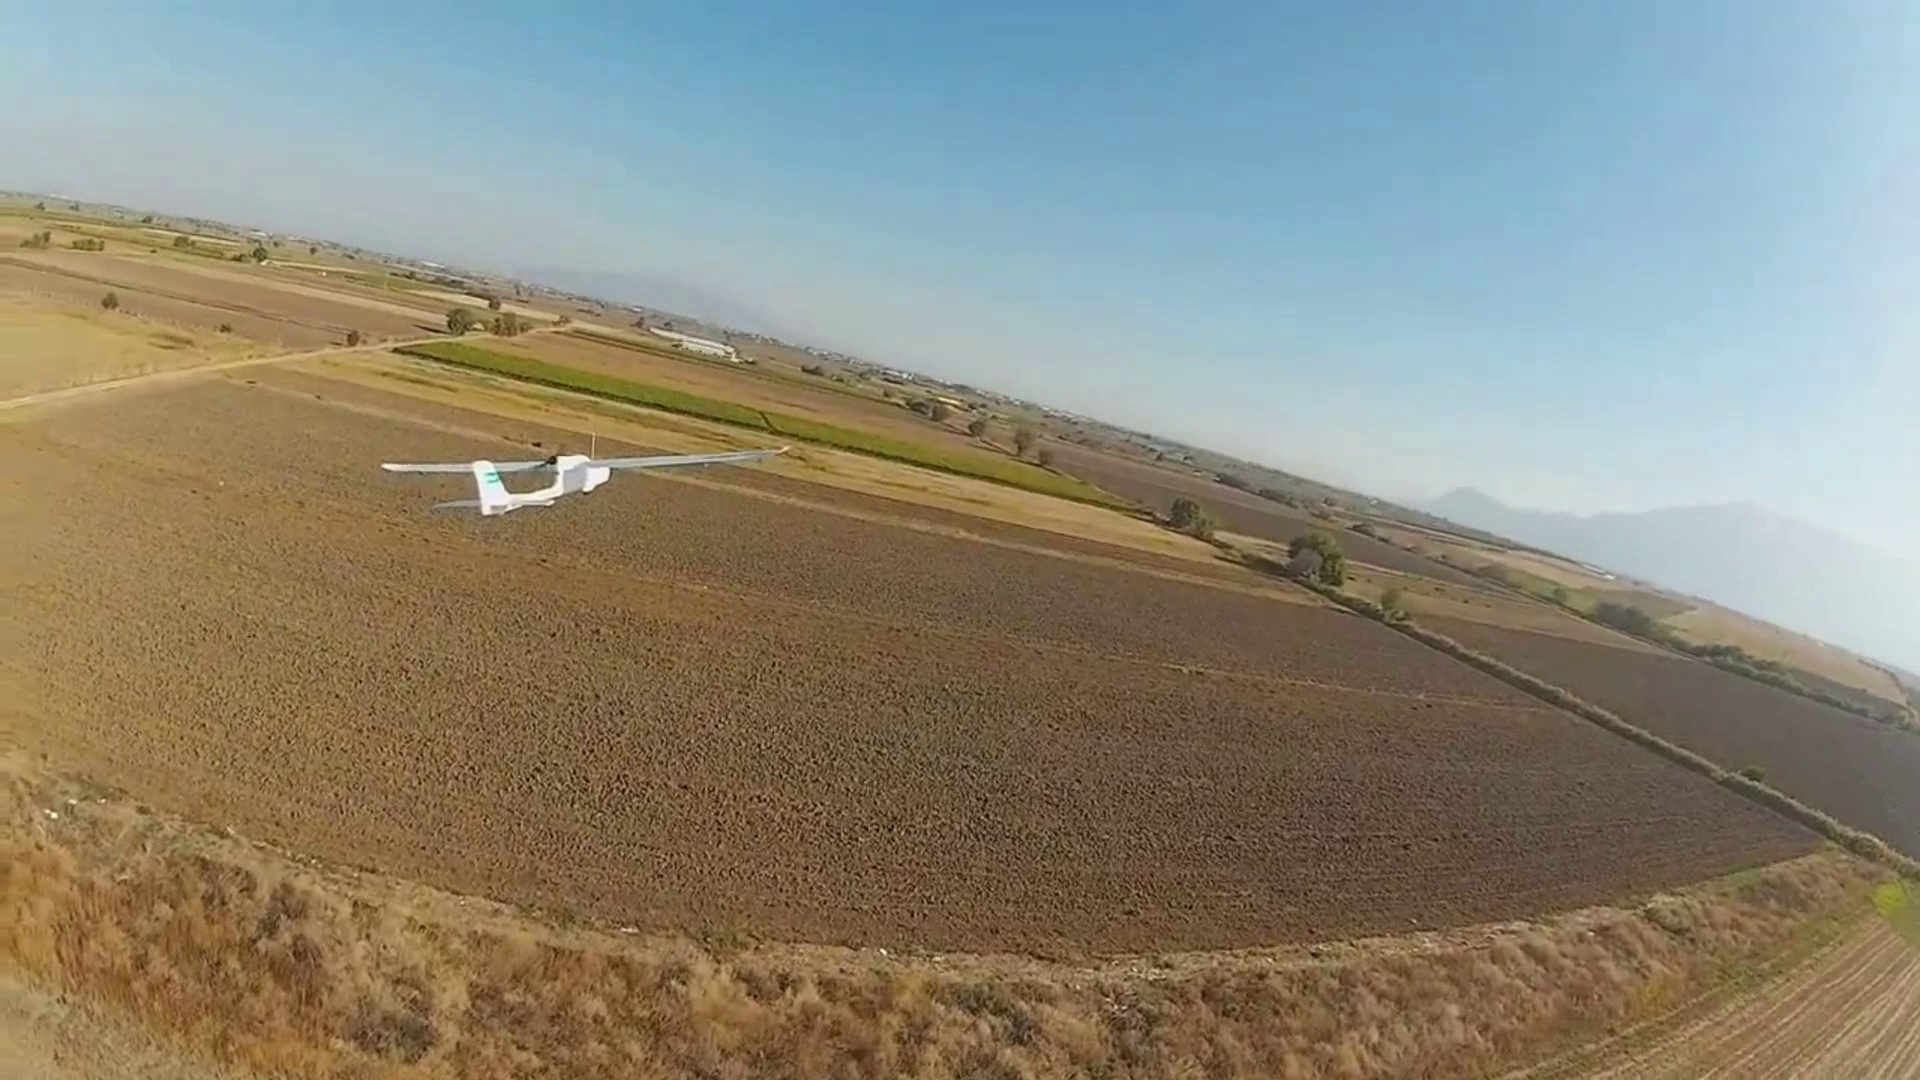airplane: (378, 454, 611, 516)
